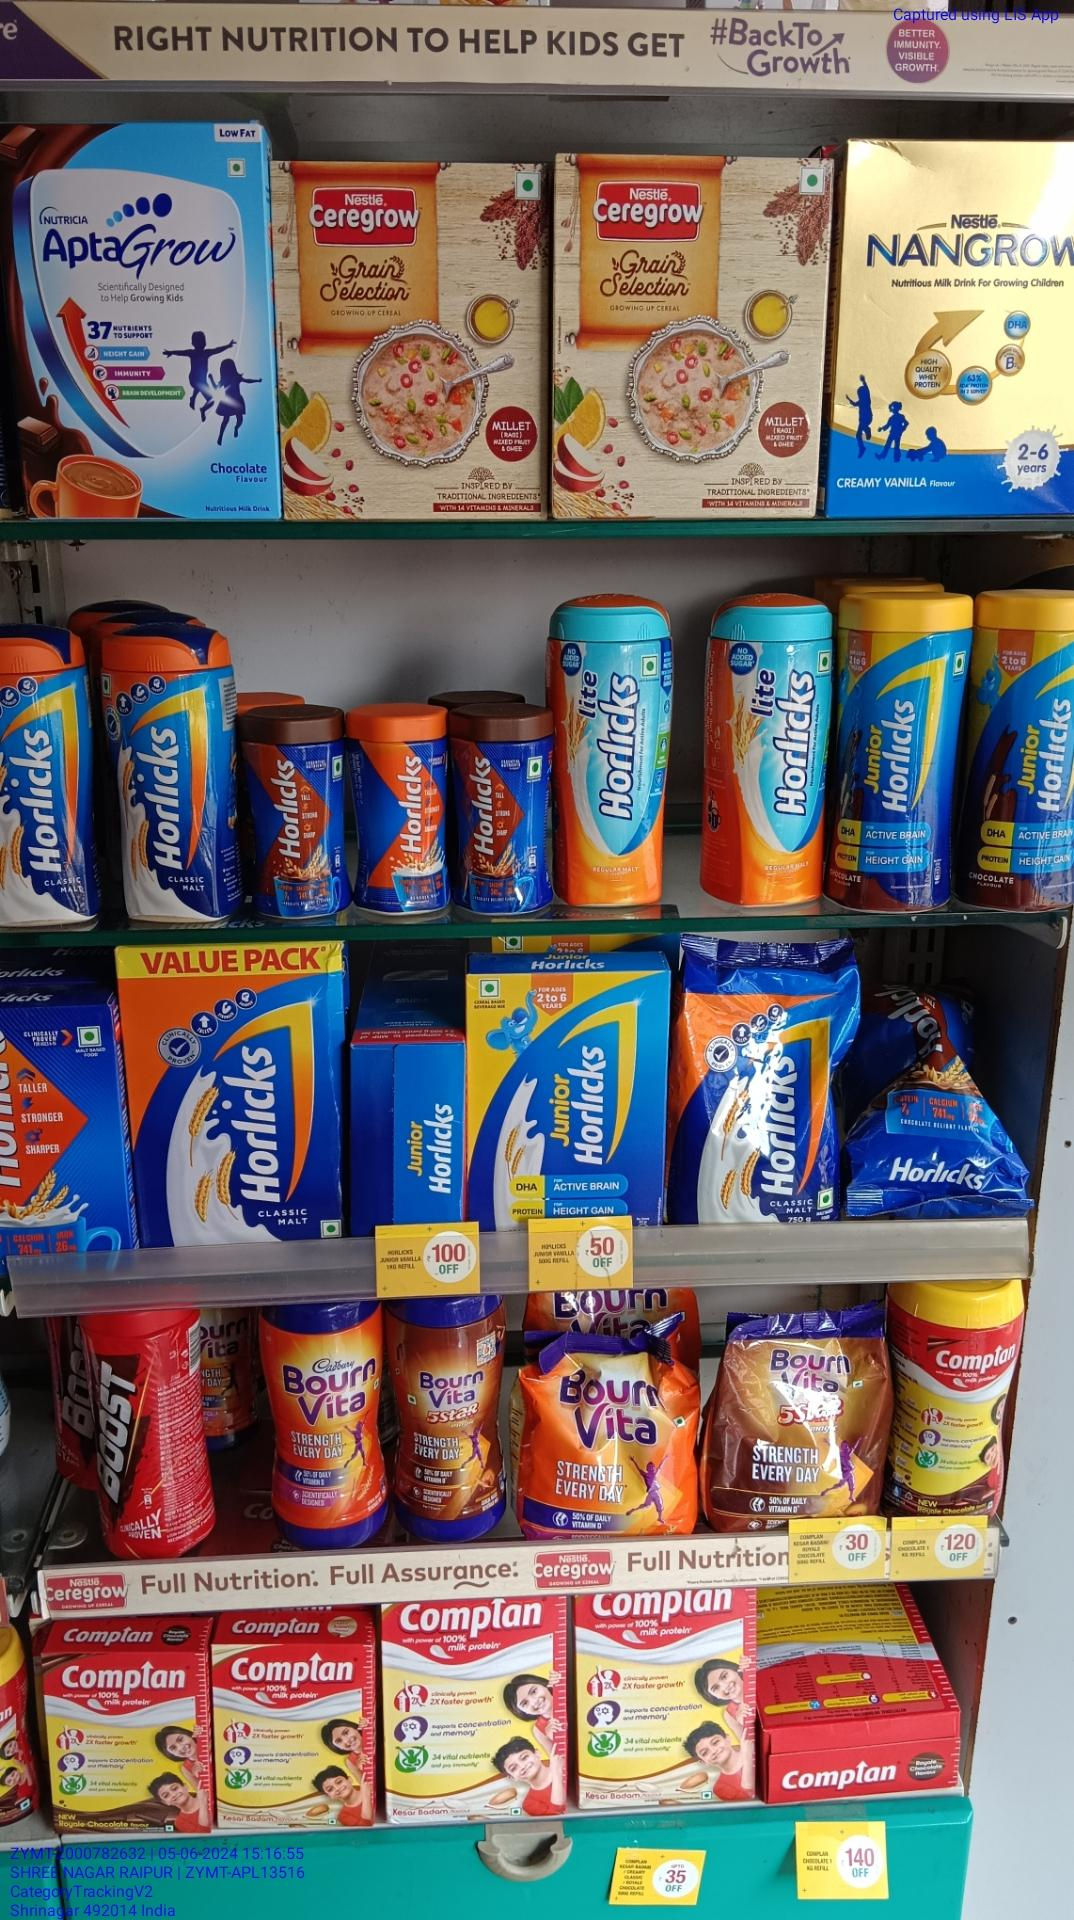BOURN_VITA_500_G_JAR: (265, 1299, 384, 1545)
BOURN_VITA_FIVE_STAR_MAGIC_500_G_JAR: (397, 1294, 508, 1540)
BOURN_VITA_FIVE_STAR_MAGIC_500_G_POUCH: (719, 1316, 891, 1534)
COMPLAN_CHOCOLATE_500_GMS_JAR: (904, 1282, 1019, 1524)
COMPLAN_KESAR_BADAM_200_GMS_PACK: (212, 1642, 372, 1833)
HORLICKS_LITE_REGULAR_MALT_500_GM_JAR: (707, 596, 831, 914), (559, 595, 670, 910)
HORLICK_CHOCOLATE_200_G_JAR: (252, 709, 354, 919), (460, 703, 550, 922)
HORLICK_CLASSIC_MALT_200_G_JAR: (358, 703, 453, 916)
HORLICK_CLASSIC_MALT_500_G_JAR: (102, 620, 234, 926), (0, 615, 98, 931)
HORLICK_CLASSIC_MALT_500_G_PACK: (129, 948, 336, 1259)
HORLICK_CLASSIC_MALT_750_G_POUCH: (682, 936, 852, 1225)
